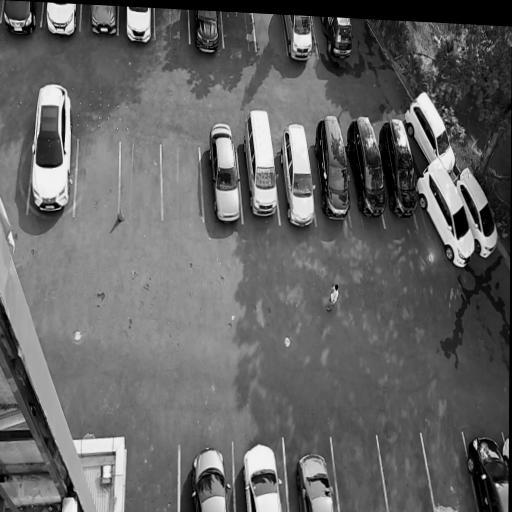Car: (415, 155, 478, 271), (29, 82, 74, 221), (402, 83, 459, 175), (343, 109, 389, 222), (451, 162, 501, 264), (311, 112, 353, 229), (240, 102, 280, 223), (277, 116, 317, 232), (375, 114, 419, 217), (463, 431, 509, 512), (209, 118, 243, 221), (239, 436, 282, 512), (189, 442, 232, 512), (292, 443, 335, 512), (282, 15, 316, 62), (319, 17, 354, 60), (0, 0, 40, 37), (192, 10, 222, 55), (43, 2, 80, 37), (122, 6, 153, 44), (90, 5, 118, 40)
Space Available: (377, 432, 435, 512), (331, 434, 389, 512), (422, 432, 478, 512), (120, 140, 161, 221), (161, 142, 203, 221), (75, 138, 118, 215), (132, 441, 178, 512), (0, 134, 33, 214), (251, 13, 287, 55), (222, 11, 255, 53), (155, 8, 190, 42)
